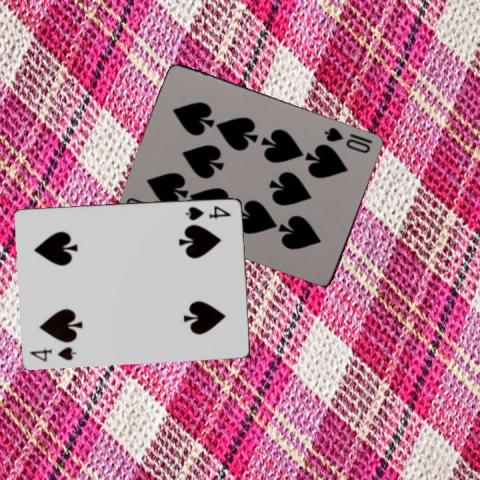10s: (322, 124, 372, 155)
4s: (27, 343, 78, 363), (183, 203, 232, 221)
